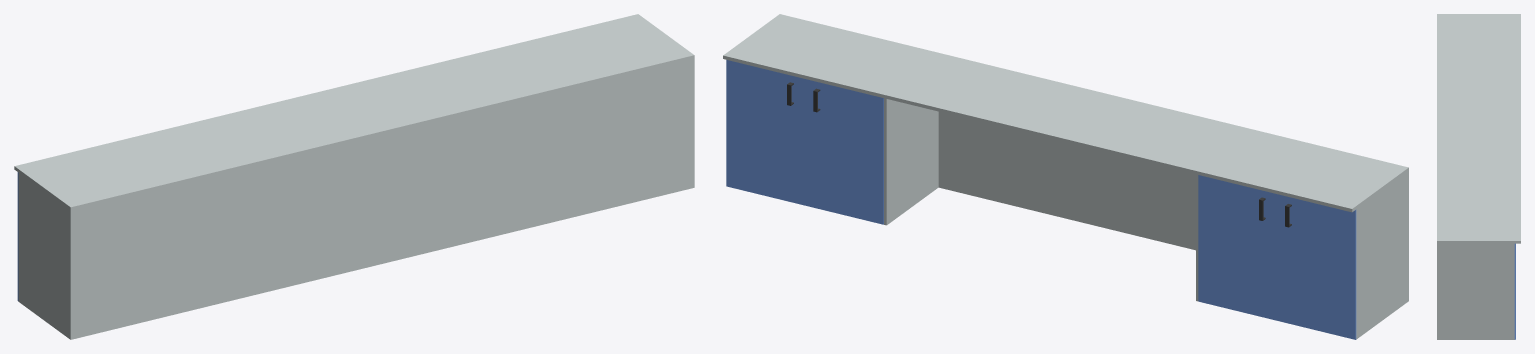
The model's file is Shelf_1.obj.
3 renders of one model, left to right at view 1: azimuth 30°, elevation 25°; view 2: azimuth 150°, elevation 25°; view 3: azimuth 270°, elevation 25°, orthographic. The views are drawn at different scales.
Parts seen in each view (by area): view 1: group2 tabel_1, group2 pCube4; view 2: group2 pCube4, group2 tabel_1, group2 FIJO_135_L_7, FIJO_135_L_5 group2, group2 FIJO_135_L_6, group2 FIJO_135_L_4; view 3: group2 pCube4, group2 tabel_1, group2 FIJO_135_L_4.
Boxes of the visible parts, bbox=[...] form: group2 tabel_1: bbox=[18, 58, 694, 339]; group2 pCube4: bbox=[14, 14, 694, 210]; group2 pCube4: bbox=[723, 14, 1408, 212]; group2 tabel_1: bbox=[884, 98, 1408, 339]; group2 FIJO_135_L_7: bbox=[1277, 194, 1356, 339]; FIJO_135_L_5 group2: bbox=[805, 79, 883, 224]; group2 FIJO_135_L_6: bbox=[1198, 175, 1276, 320]; group2 FIJO_135_L_4: bbox=[726, 60, 804, 205]; group2 pCube4: bbox=[1437, 14, 1520, 243]; group2 tabel_1: bbox=[1437, 243, 1514, 339]; group2 FIJO_135_L_4: bbox=[1514, 243, 1515, 339].
Size of the model in its own units: 4.8 by 0.975 by 0.75.
